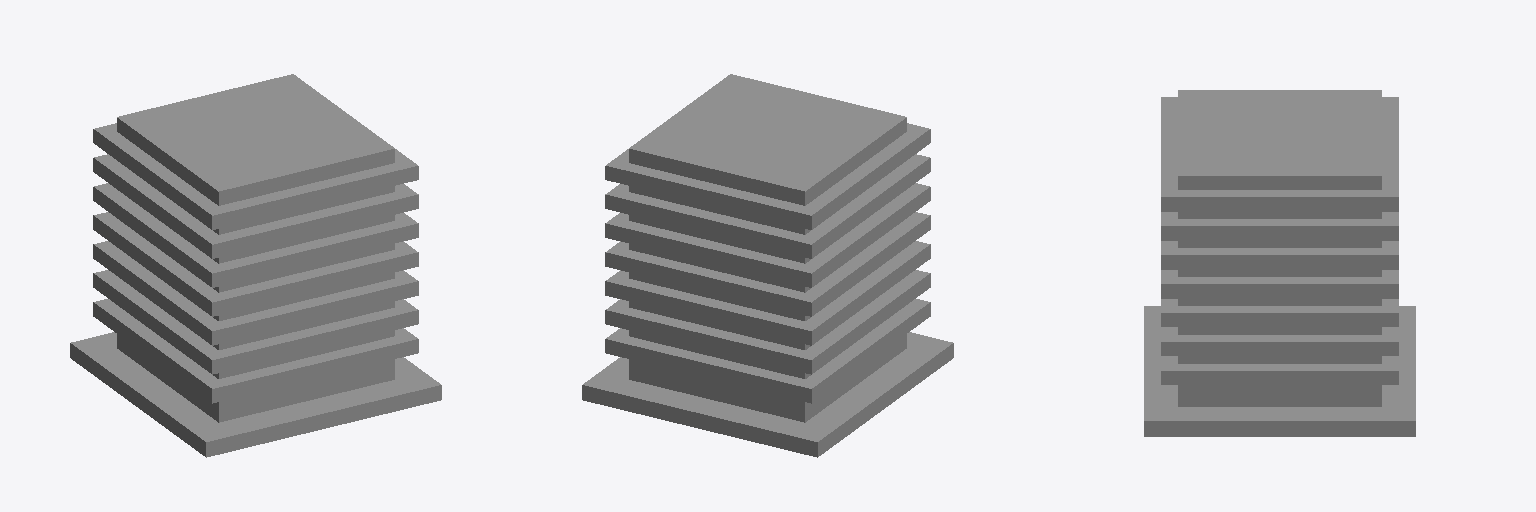
File: teslacoil.obj
3 renders of one model, left to right at view 1: azimuth 30°, elevation 25°; view 2: azimuth 150°, elevation 25°; view 3: azimuth 270°, elevation 25°, orthographic.
Visible parts, largest first — view 1: Cube; view 2: Cube; view 3: Cube.
Part boxes in pixels (left/top/right/bottom): Cube: left=70, top=74, right=441, bottom=457; Cube: left=582, top=74, right=953, bottom=457; Cube: left=1144, top=90, right=1415, bottom=436.
Size of the model in its own units: 1 by 1 by 1.